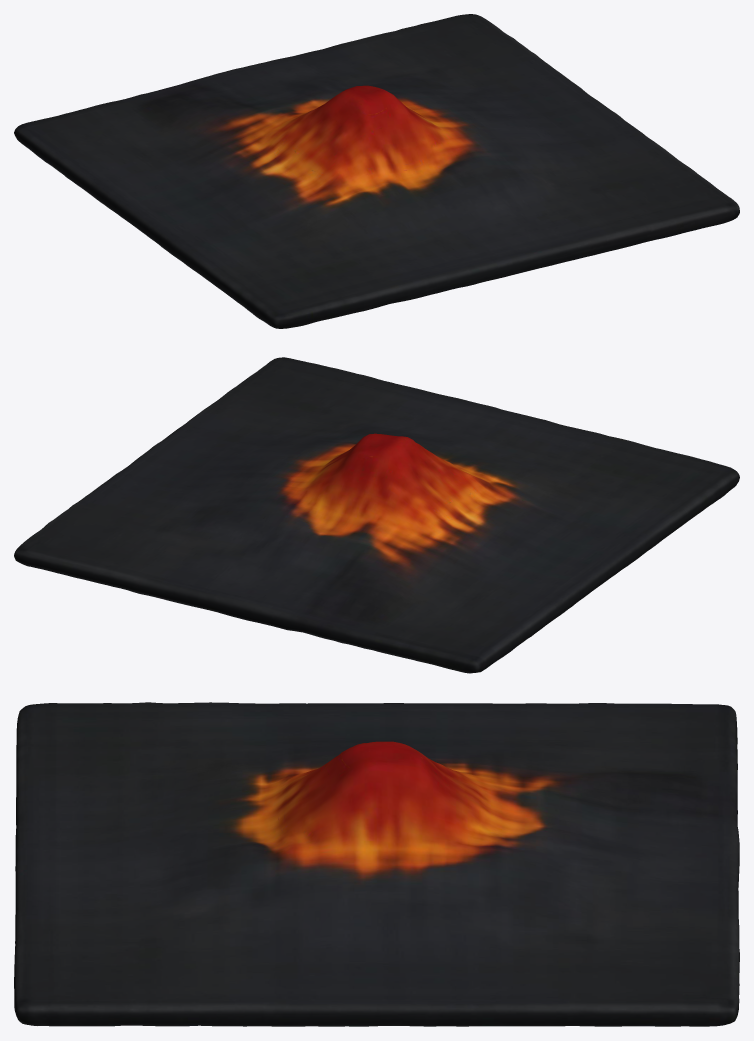
The model's file is volcano.glb.
3 renders of one model, top to bottom at view 1: azimuth 30°, elevation 25°; view 2: azimuth 150°, elevation 25°; view 3: azimuth 270°, elevation 25°, orthographic. The views are drawn at different scales.
Visible parts, largest first — view 1: mesh; view 2: mesh; view 3: mesh.
Part boxes in pixels (bbox=[...]): mesh: bbox=[14, 14, 739, 328]; mesh: bbox=[14, 357, 739, 673]; mesh: bbox=[14, 702, 739, 1026].
Bounding box in the file's own units: 0.9995 × 0.1808 × 0.9933.
1 material, 1 textured.
